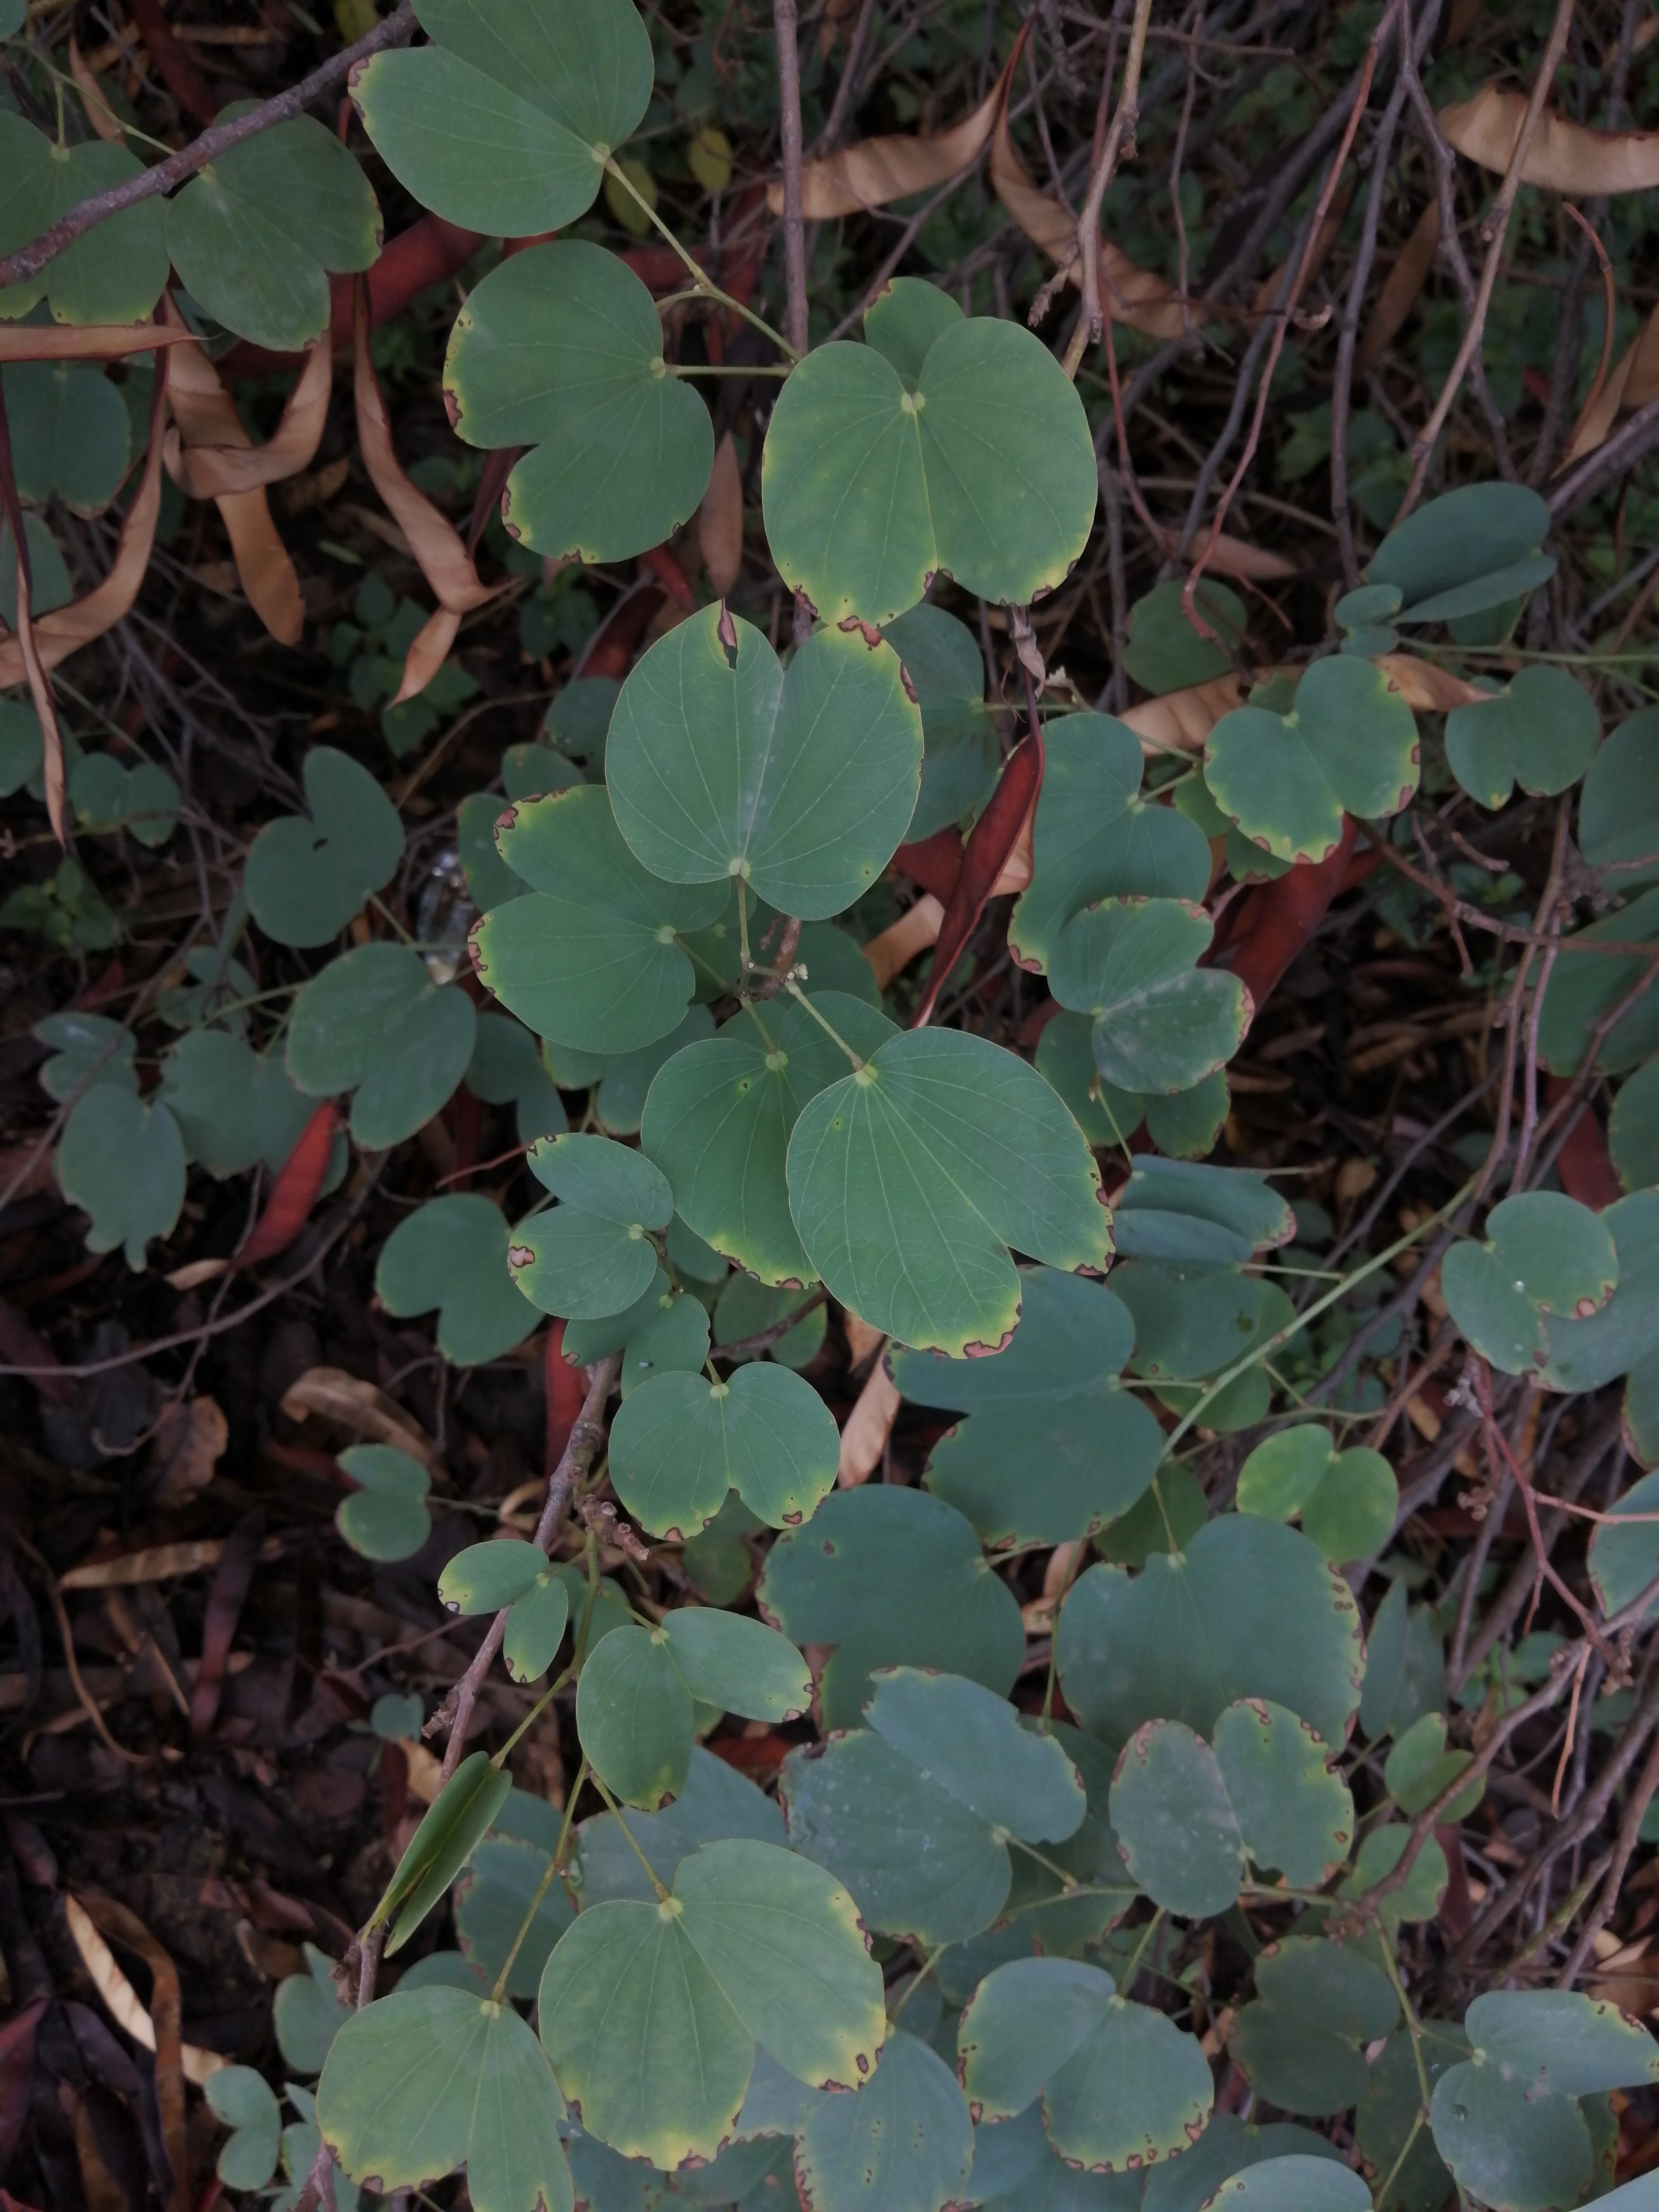nothealthy: (514, 1831, 897, 2174), (772, 1033, 1129, 1371), (582, 603, 931, 932), (758, 312, 1101, 629), (441, 225, 742, 566), (460, 784, 749, 1050), (1101, 1695, 1364, 1923), (948, 1954, 1216, 2175), (1201, 644, 1424, 871), (1044, 894, 1260, 1096), (498, 1130, 685, 1322), (430, 1531, 563, 1684)
